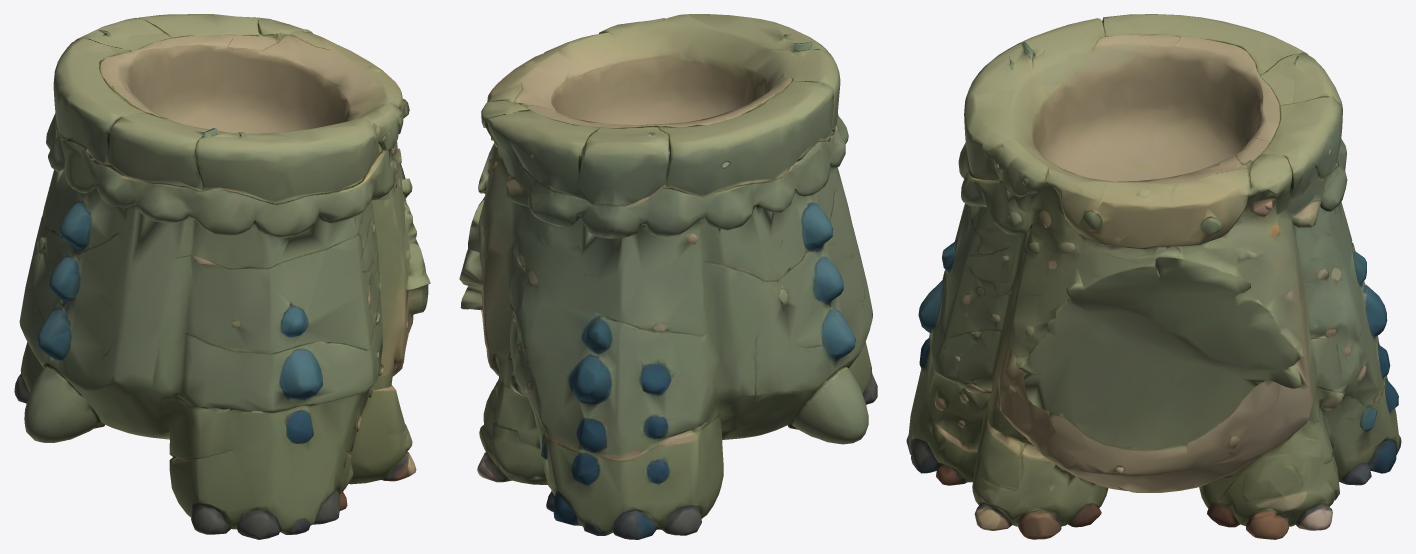
File: body.glb
The picture shows the model from 3 angles, left to right: view 1: azimuth 30°, elevation 25°; view 2: azimuth 150°, elevation 25°; view 3: azimuth 270°, elevation 25°; orthographic projection. The views are drawn at different scales.
Parts seen in each view (by area): view 1: tripo_node_82bf28fe-763c-417d-8585-f797040c093a; view 2: tripo_node_82bf28fe-763c-417d-8585-f797040c093a; view 3: tripo_node_82bf28fe-763c-417d-8585-f797040c093a.
Boxes of the visible parts, bbox=[...] form: tripo_node_82bf28fe-763c-417d-8585-f797040c093a: bbox=[14, 14, 430, 539]; tripo_node_82bf28fe-763c-417d-8585-f797040c093a: bbox=[459, 14, 877, 539]; tripo_node_82bf28fe-763c-417d-8585-f797040c093a: bbox=[906, 14, 1401, 539].
Size of the model in its own units: 0.8655 by 0.8819 by 1.
1 material, 1 textured.
